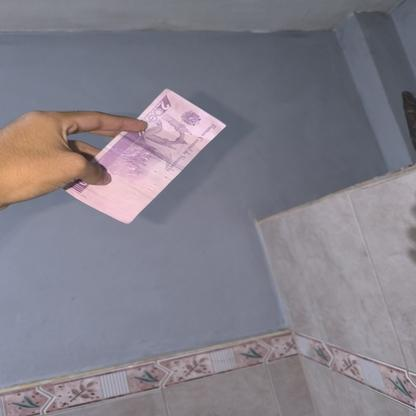one_hundred-back-vef: (61, 86, 228, 224)
